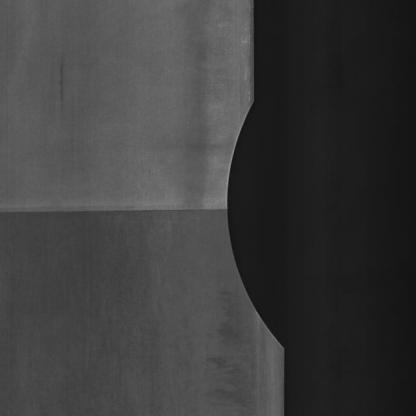welding_line: (0, 197, 230, 236)
